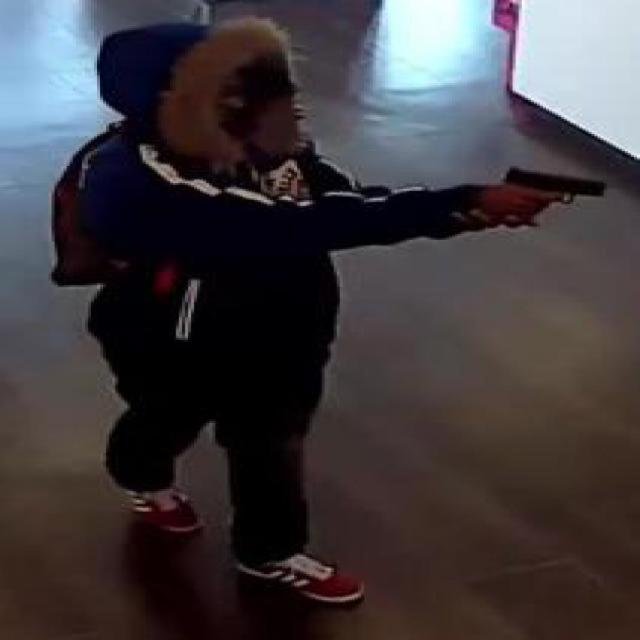pistol: (498, 164, 606, 228)
